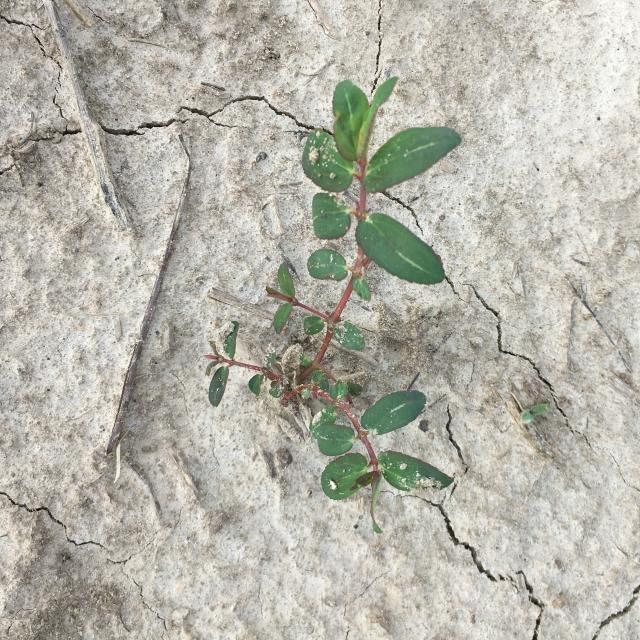SpottedSpurge: (203, 76, 462, 534)
